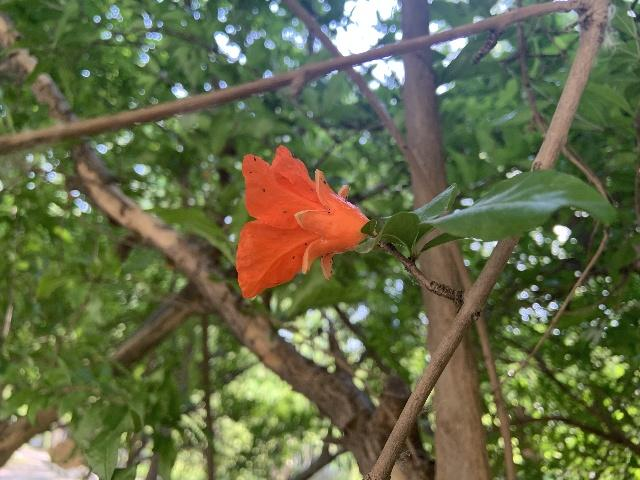flower: (236, 143, 372, 299)
